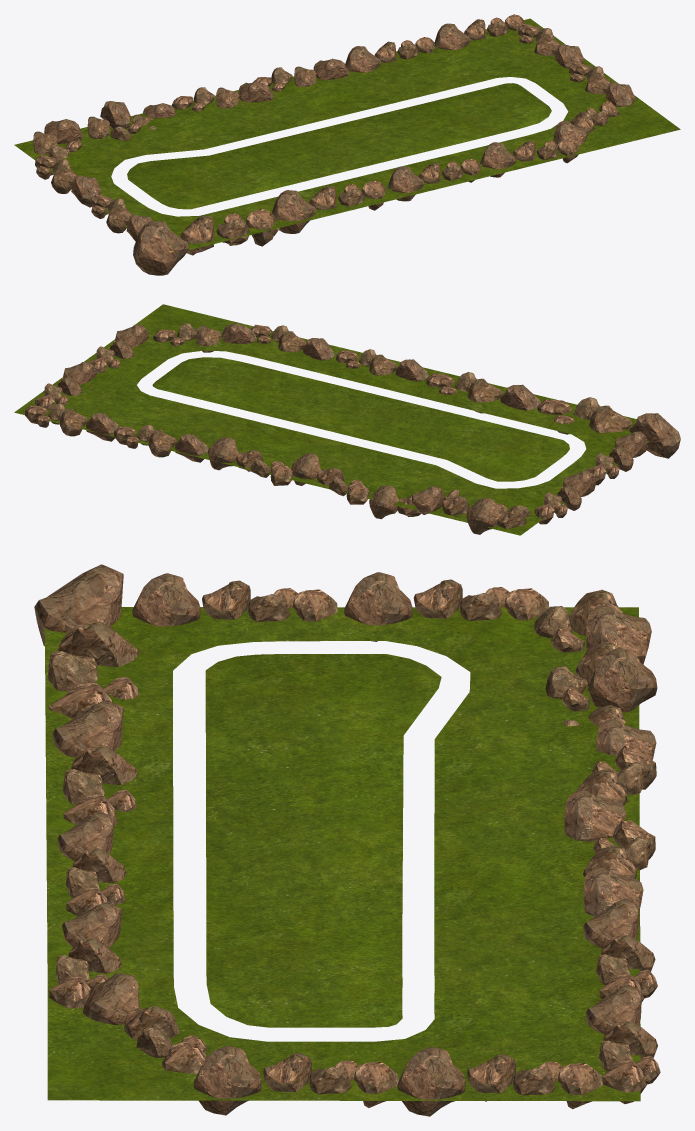
The model's file is Circuit.fbx.
3 views of the same model, one above another, from view 1: azimuth 30°, elevation 25°; view 2: azimuth 150°, elevation 25°; view 3: azimuth 270°, elevation 25° (orthographic). The views are drawn at different scales.
Visible parts, largest first — view 1: Plane.001, polySurface1325_stone_0.010, polySurface1325_stone_0.009, polySurface1325_stone_0.013, polySurface1325_stone_0.008, polySurface1325_stone_0.014, polySurface1325_stone_0.004, polySurface1325_stone_0.001, polySurface1325_stone_0.002, polySurface1325_stone_0.015, polySurface1325_stone_0.006, polySurface1325_stone_0.007 (+5 smaller); view 2: Plane.001, polySurface1325_stone_0.010, polySurface1325_stone_0.009, polySurface1325_stone_0.001, polySurface1325_stone_0.002, polySurface1325_stone_0.015, polySurface1325_stone_0.004, polySurface1325_stone_0.014, polySurface1325_stone_0.012, polySurface1325_stone_0.016, polySurface1325_stone_0.006, polySurface1325_stone_0.008 (+5 smaller); view 3: Plane.001, polySurface1325_stone_0.010, polySurface1325_stone_0.005, polySurface1325_stone_0.011, polySurface1325_stone_0.009, polySurface1325_stone_0.016, polySurface1325_stone_0.014, polySurface1325_stone_0.012, polySurface1325_stone_0.007, polySurface1325_stone_0.002, polySurface1325_stone_0.004, polySurface1325_stone_0.013 (+5 smaller).
Part boxes in pixels (x1,y1,x2,y2): Plane.001: (14,18,680,250); polySurface1325_stone_0.010: (133,209,278,275); polySurface1325_stone_0.009: (272,180,386,233); polySurface1325_stone_0.013: (480,139,578,177); polySurface1325_stone_0.008: (388,158,481,201); polySurface1325_stone_0.014: (35,154,101,207); polySurface1325_stone_0.004: (171,81,273,111); polySurface1325_stone_0.001: (345,37,435,72); polySurface1325_stone_0.002: (435,14,524,49); polySurface1325_stone_0.015: (252,58,349,91); polySurface1325_stone_0.006: (33,119,83,160); polySurface1325_stone_0.007: (87,101,141,140); Plane.001: (14,304,649,535); polySurface1325_stone_0.010: (537,397,680,458); polySurface1325_stone_0.009: (426,372,540,413); polySurface1325_stone_0.001: (114,424,208,462); polySurface1325_stone_0.002: (25,403,118,441); polySurface1325_stone_0.015: (208,437,292,485); polySurface1325_stone_0.004: (291,453,369,504); polySurface1325_stone_0.014: (534,470,596,524); polySurface1325_stone_0.012: (153,323,255,352); polySurface1325_stone_0.016: (586,431,647,485); polySurface1325_stone_0.006: (466,498,530,534); polySurface1325_stone_0.008: (336,349,428,381); Plane.001: (44,607,640,1101); polySurface1325_stone_0.010: (34,564,139,718); polySurface1325_stone_0.005: (397,1047,602,1116); polySurface1325_stone_0.011: (193,1045,398,1115); polySurface1325_stone_0.009: (52,699,137,825); polySurface1325_stone_0.016: (132,573,337,626); polySurface1325_stone_0.014: (344,572,549,641); polySurface1325_stone_0.012: (83,973,206,1073); polySurface1325_stone_0.007: (545,641,657,712); polySurface1325_stone_0.002: (585,984,660,1103); polySurface1325_stone_0.004: (564,745,656,841); polySurface1325_stone_0.013: (49,901,121,1008).
Size of the model in its own units: 163 by 13.97 by 84.38.
Materials: 2 (2 with a texture image).
